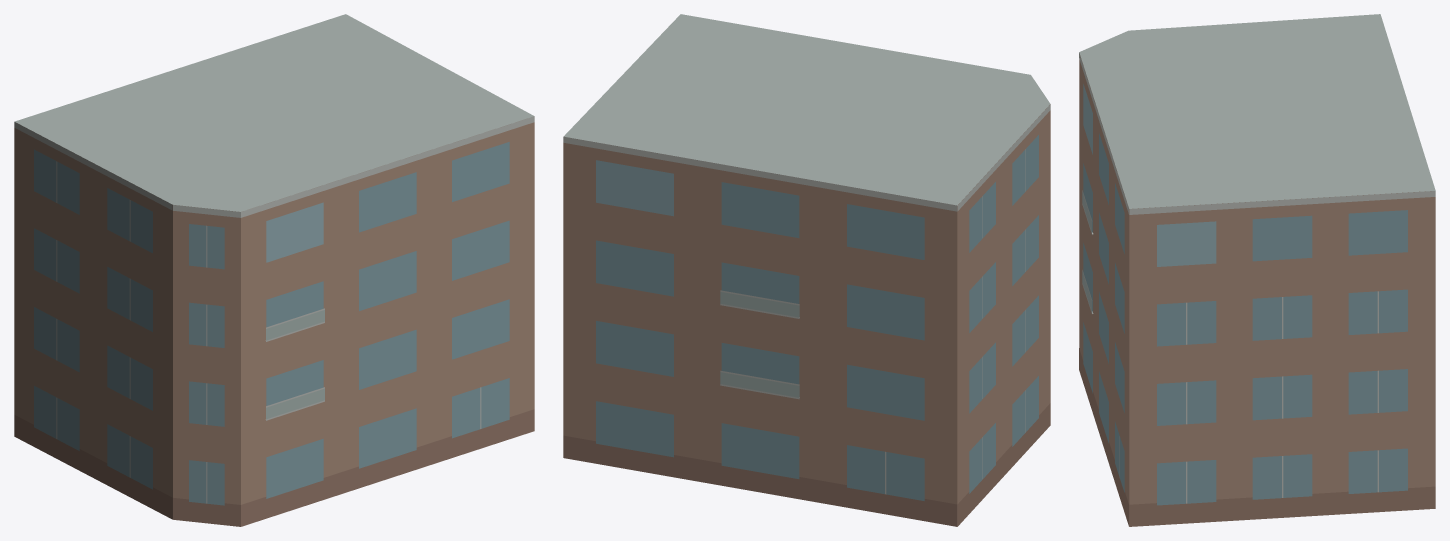
The model's file is survey-upis-32576769.glb.
The picture shows the model from 3 angles, left to right: view 1: azimuth 30°, elevation 25°; view 2: azimuth 150°, elevation 25°; view 3: azimuth 270°, elevation 25°; orthographic projection. The views are drawn at different scales.
Parts seen in each view (by area): view 1: survey-upis-32576769.tmp; view 2: survey-upis-32576769.tmp; view 3: survey-upis-32576769.tmp.
Part boxes in pixels (left/top/right/bottom): survey-upis-32576769.tmp: left=14, top=14, right=534, bottom=526; survey-upis-32576769.tmp: left=563, top=14, right=1050, bottom=526; survey-upis-32576769.tmp: left=1079, top=14, right=1435, bottom=526.
Bounding box in the file's own units: 16.84 × 12.8 × 13.02.
